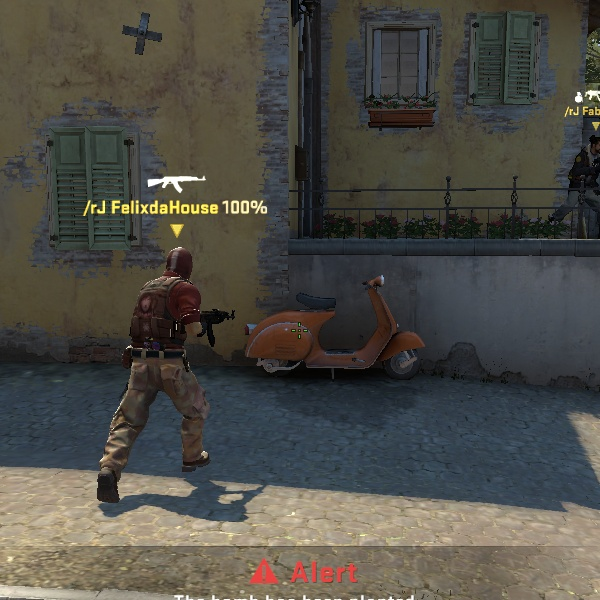t_body: (93, 243, 237, 491)
t_head: (157, 242, 203, 289)
